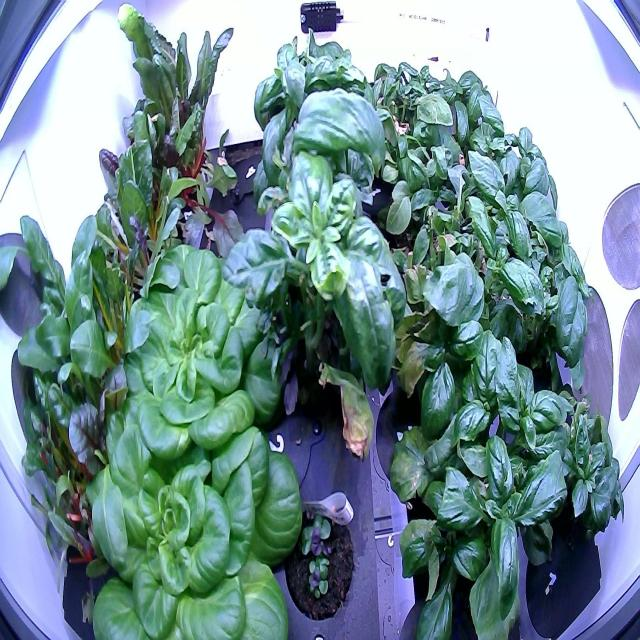Ready: (78, 394, 309, 640), (96, 231, 290, 468)
empty_pod: (224, 138, 266, 202)
germination: (277, 493, 357, 632)
